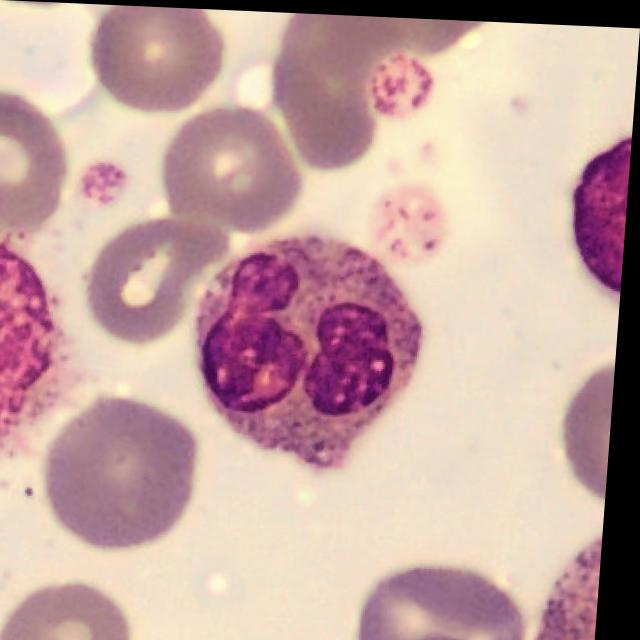Neutrofilo segmentado: (197, 229, 428, 467)
